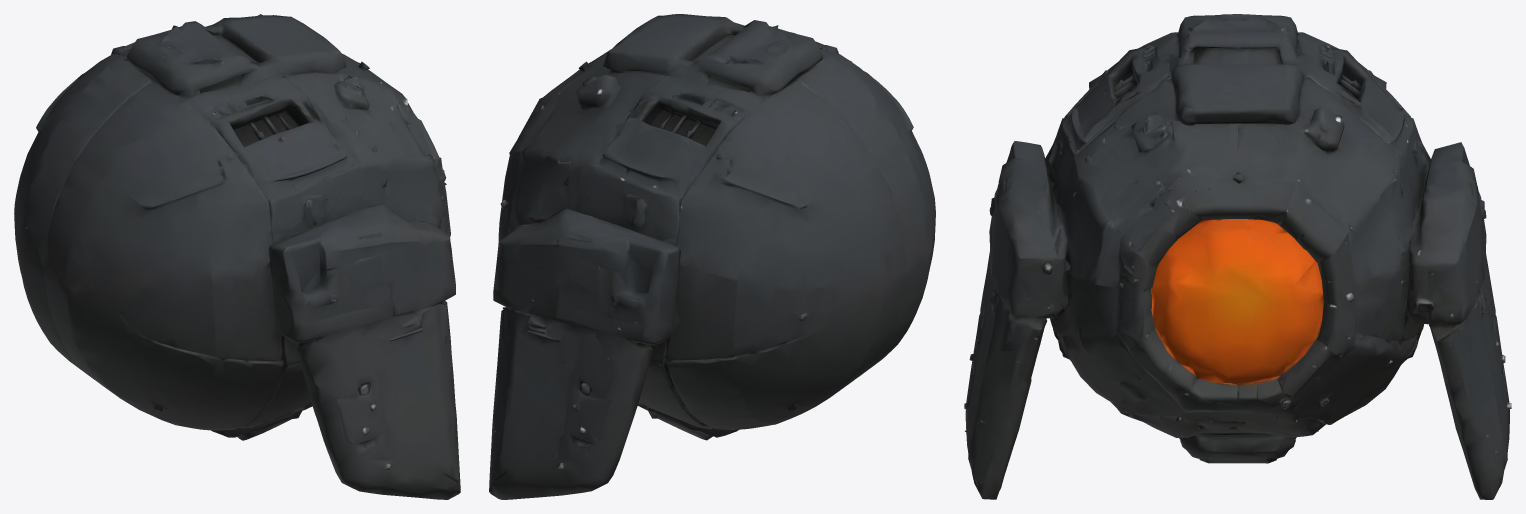
File: enemy_drone.glb
The picture shows the model from 3 angles, left to right: view 1: azimuth 30°, elevation 25°; view 2: azimuth 150°, elevation 25°; view 3: azimuth 270°, elevation 25°; orthographic projection. The views are drawn at different scales.
Visible parts, largest first — view 1: tripo_node_f070fa45-085e-4ef5-aa83-f227154ca8f0; view 2: tripo_node_f070fa45-085e-4ef5-aa83-f227154ca8f0; view 3: tripo_node_f070fa45-085e-4ef5-aa83-f227154ca8f0.
Boxes of the visible parts, <box> form: tripo_node_f070fa45-085e-4ef5-aa83-f227154ca8f0: <box>14,14,460,499</box>; tripo_node_f070fa45-085e-4ef5-aa83-f227154ca8f0: <box>489,14,935,499</box>; tripo_node_f070fa45-085e-4ef5-aa83-f227154ca8f0: <box>964,14,1511,499</box>.
Bounding box in the file's own units: 0.791 × 0.822 × 1.
Materials: 1 (1 with a texture image).
